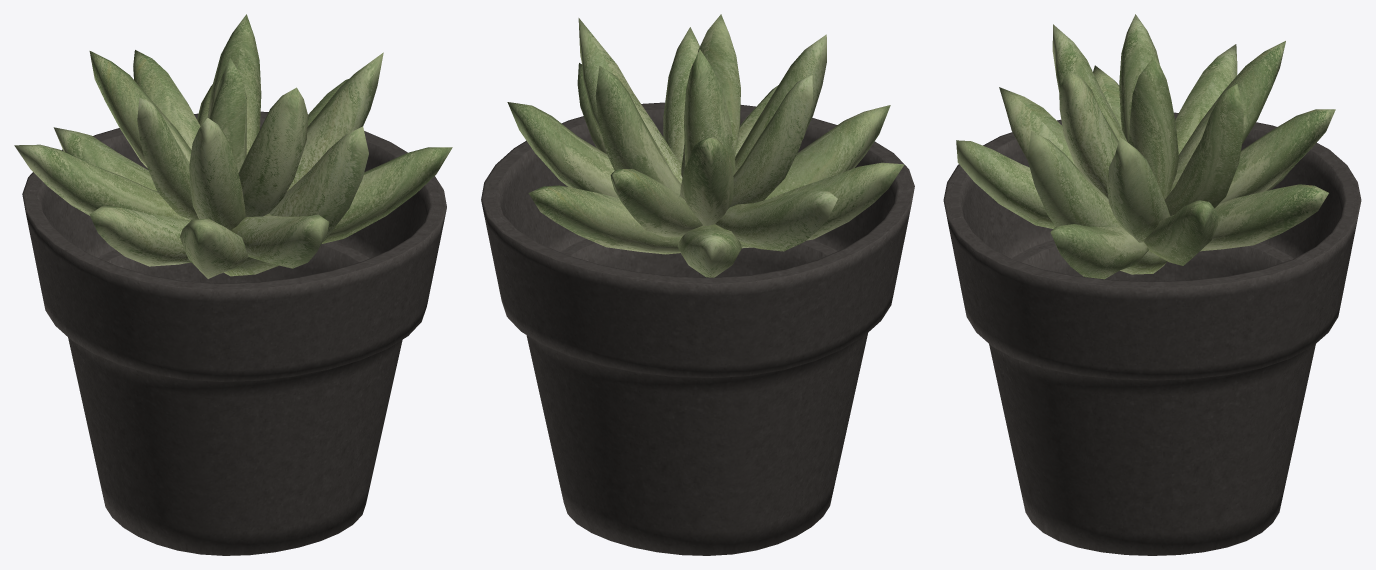
Rendered from ECHEVERIA_AMOENA_CEMENT_POT.glb.
3 renders of one model, left to right at view 1: azimuth 30°, elevation 25°; view 2: azimuth 150°, elevation 25°; view 3: azimuth 270°, elevation 25°, orthographic. The views are drawn at different scales.
Visible parts, largest first — view 1: Cube, GA_cactus; view 2: Cube, GA_cactus; view 3: Cube, GA_cactus.
Boxes of the visible parts, left/top/right/bottom form: Cube: left=22, top=111, right=446, bottom=555; GA_cactus: left=14, top=14, right=452, bottom=278; Cube: left=481, top=102, right=914, bottom=555; GA_cactus: left=507, top=14, right=904, bottom=277; Cube: left=943, top=112, right=1361, bottom=555; GA_cactus: left=956, top=14, right=1335, bottom=279.
Size of the model in its own units: 1.02 by 1.2 by 1.02.
Materials: 2 (2 with a texture image).
